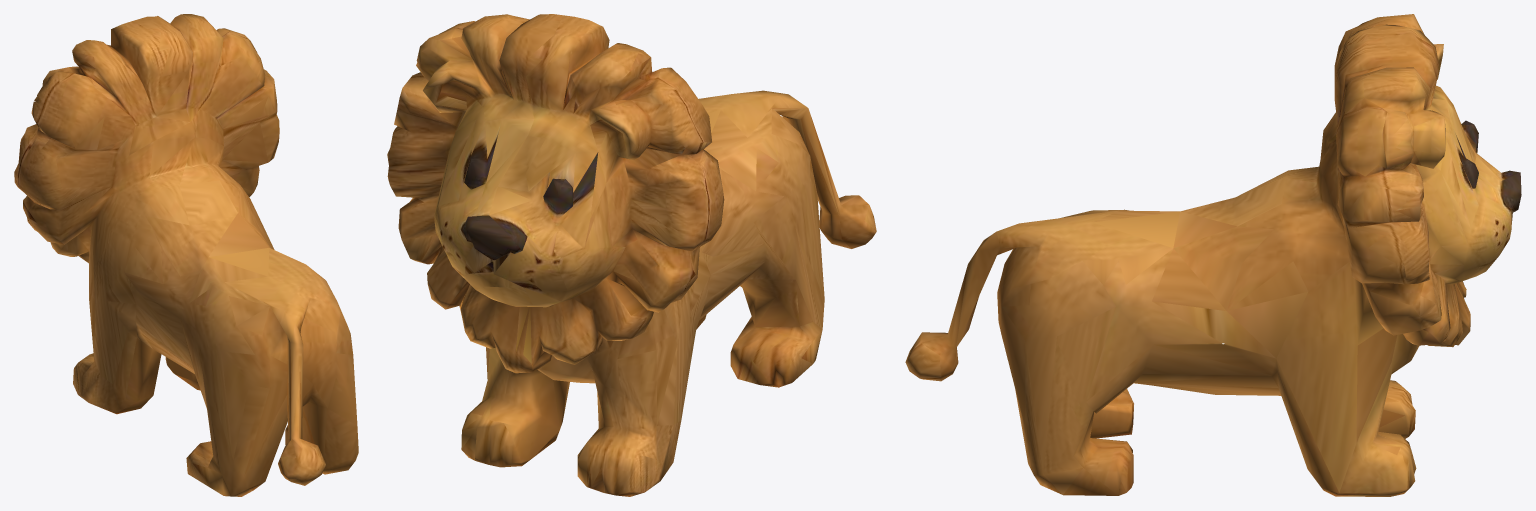
Rendered from lion.glb.
3 renders of one model, left to right at view 1: azimuth 30°, elevation 25°; view 2: azimuth 150°, elevation 25°; view 3: azimuth 270°, elevation 25°, orthographic. The views are drawn at different scales.
Visible parts, largest first — view 1: animal_lion; view 2: animal_lion; view 3: animal_lion.
Boxes of the visible parts, x1,y1,x2,y2 form: animal_lion: (14,14,358,496); animal_lion: (387,14,876,496); animal_lion: (905,14,1521,496).
Size of the model in its own units: 0.0327 by 0.0439 by 0.058.
1 material, 1 textured.
